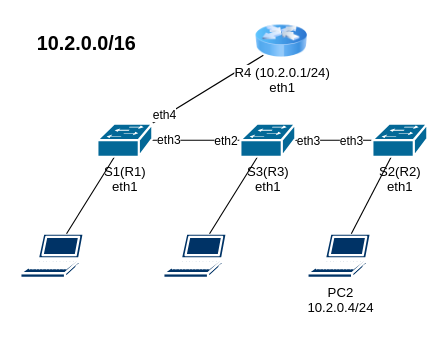
The diagram is 447 pixels wide and 351 high, and some of its shapes have lost their labels. The shapes that lost their labels are listed below. From the top down, each one's box as (x1, y1, x2, y2) in pixels, then its label:
(19, 232, 86, 278): PC1 10.2.0.2/24
(162, 232, 229, 278): PC3 10.2.0.3/24
